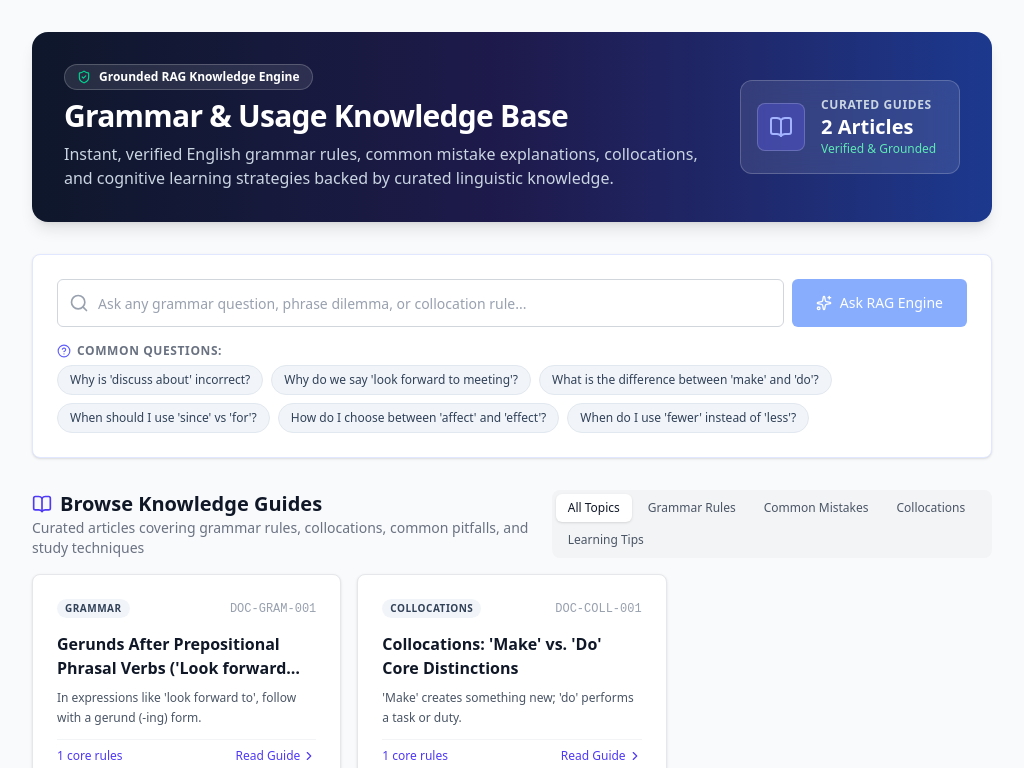
Test: KnowledgePage › opens guide detail modal when clicking a guide card
The image size is (1024, 768).
Click the heading "Collocations: 'Make' vs. 'Do' Core Distinctions": (492, 656) x1=382 y1=633 x2=601 y2=679
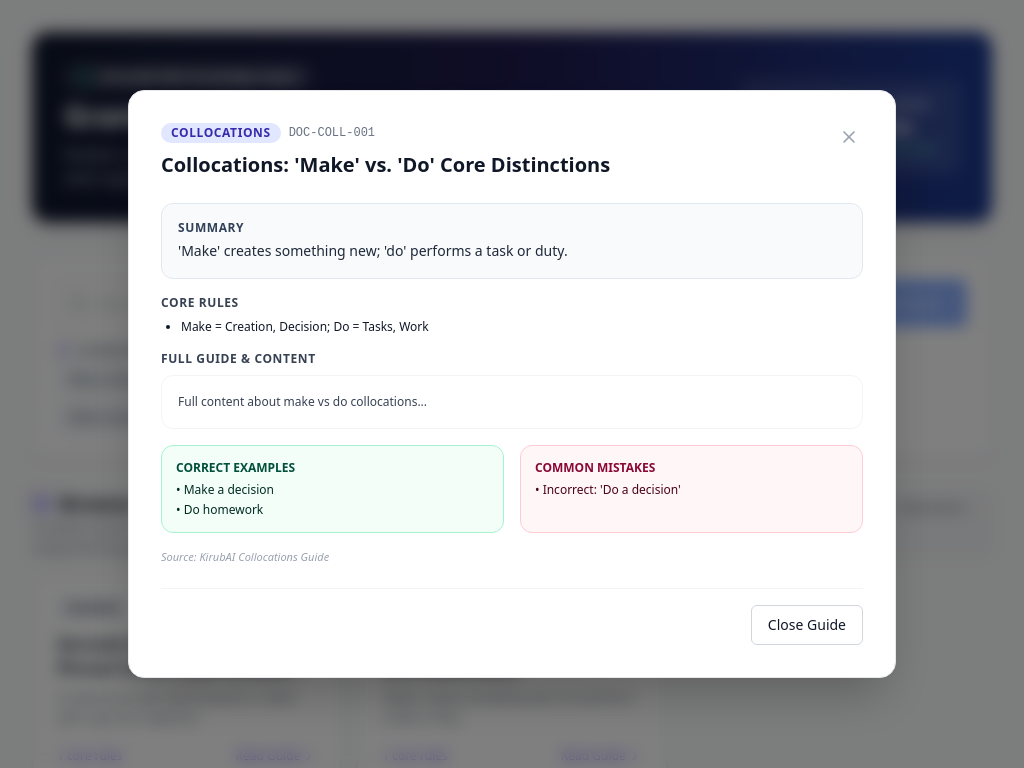
Expected: the text "Full content about make vs do collocations..." is shown, x1=161 y1=375 x2=863 y2=429
Click the button "Close Guide": (807, 626) x1=751 y1=606 x2=863 y2=646
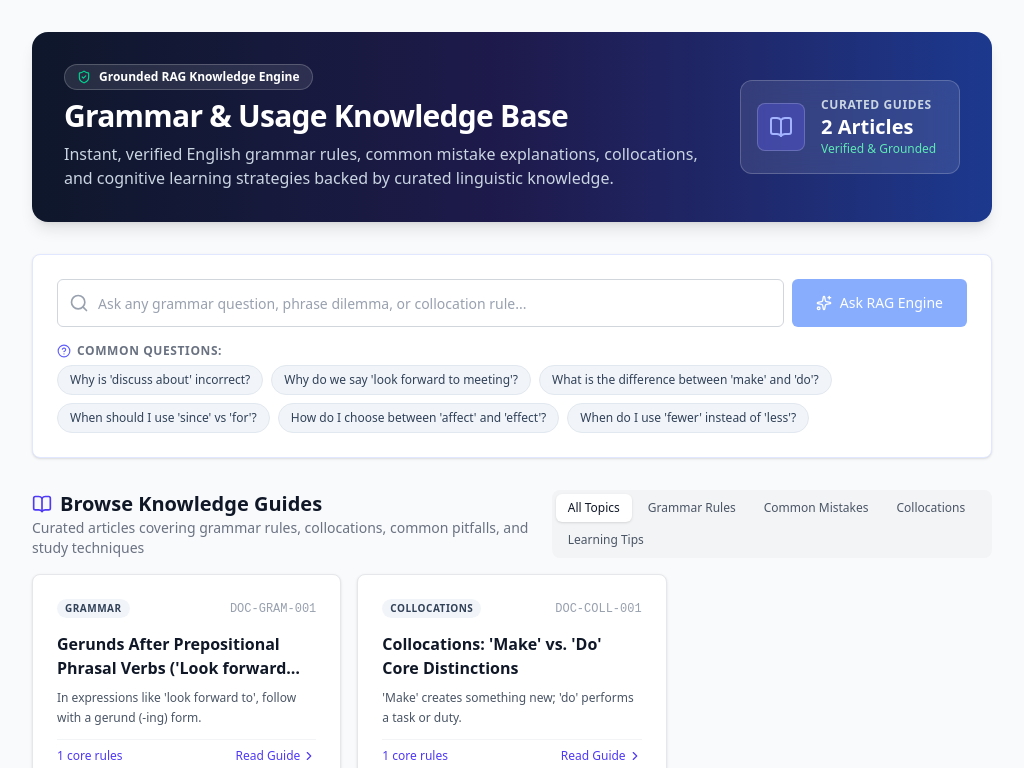
Expected: the text "Full content about make vs do collocations" is gone
